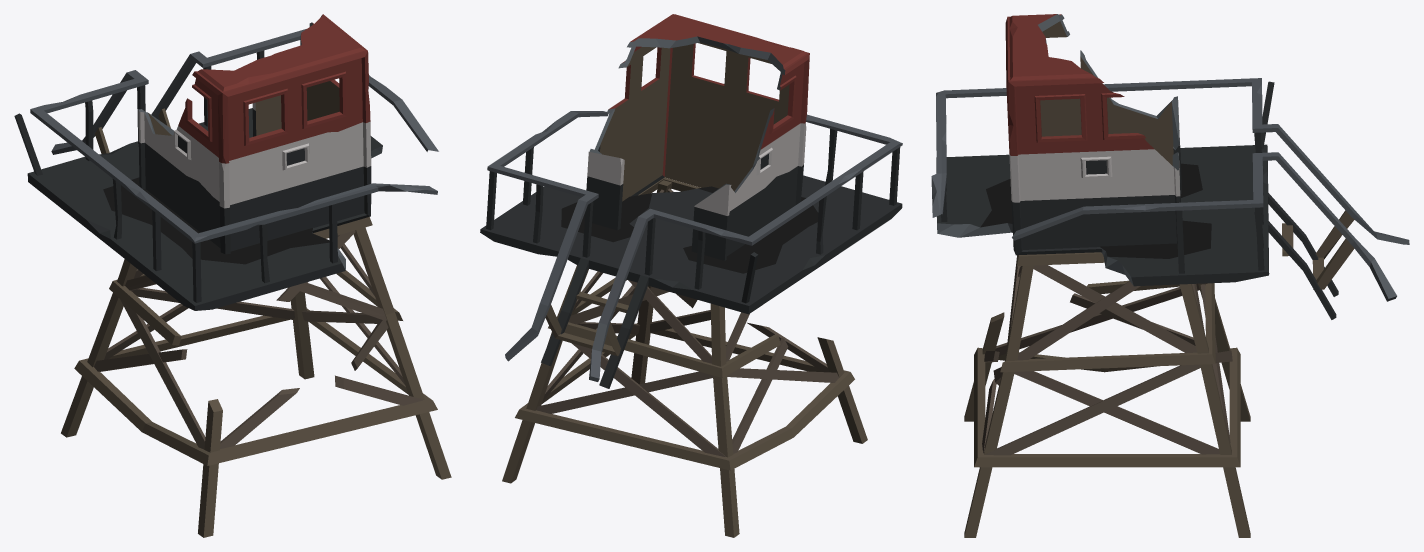
The model's file is SM_Bld_GuardTower_Destroyed_02.glb.
3 renders of one model, left to right at view 1: azimuth 30°, elevation 25°; view 2: azimuth 150°, elevation 25°; view 3: azimuth 270°, elevation 25°, orthographic. The views are drawn at different scales.
Visible parts, largest first — view 1: SM_Bld_GuardTower_Destroyed_02; view 2: SM_Bld_GuardTower_Destroyed_02; view 3: SM_Bld_GuardTower_Destroyed_02.
Boxes of the visible parts, x1=… form: SM_Bld_GuardTower_Destroyed_02: x1=14, y1=14, x2=451, y2=537; SM_Bld_GuardTower_Destroyed_02: x1=480, y1=14, x2=902, y2=537; SM_Bld_GuardTower_Destroyed_02: x1=931, y1=14, x2=1409, y2=537.
Bounding box in the file's own units: 4.12 × 5.69 × 5.71.
Materials: 1 (1 with a texture image).
